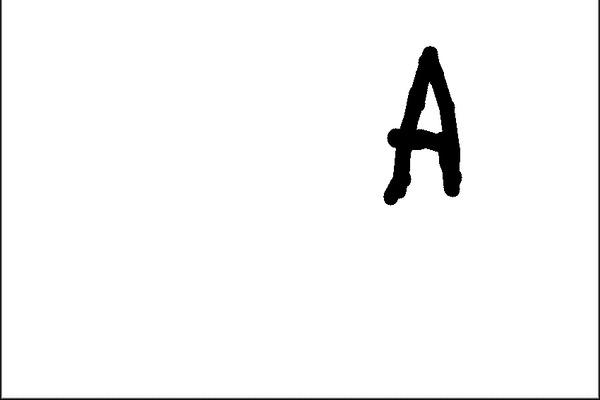A: (378, 39, 471, 210)
